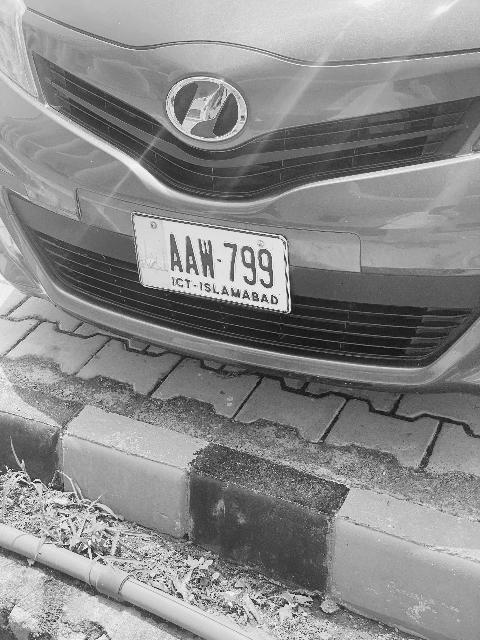Number: (167, 227, 279, 293)
